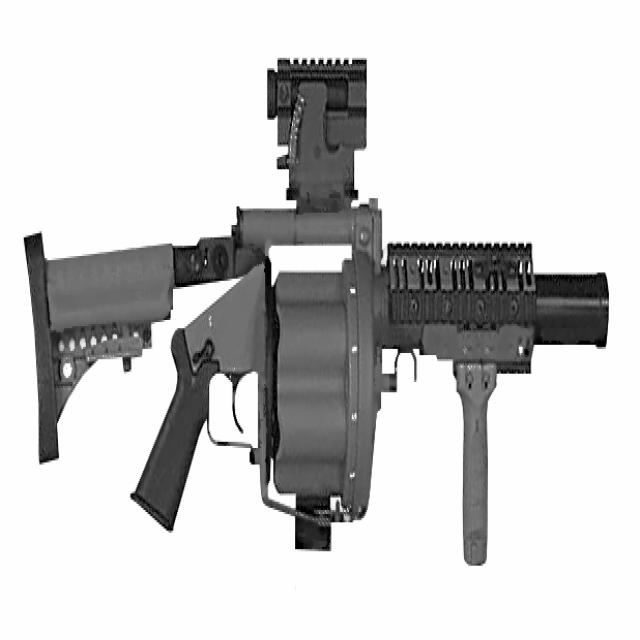Weapon: (26, 60, 608, 564)
